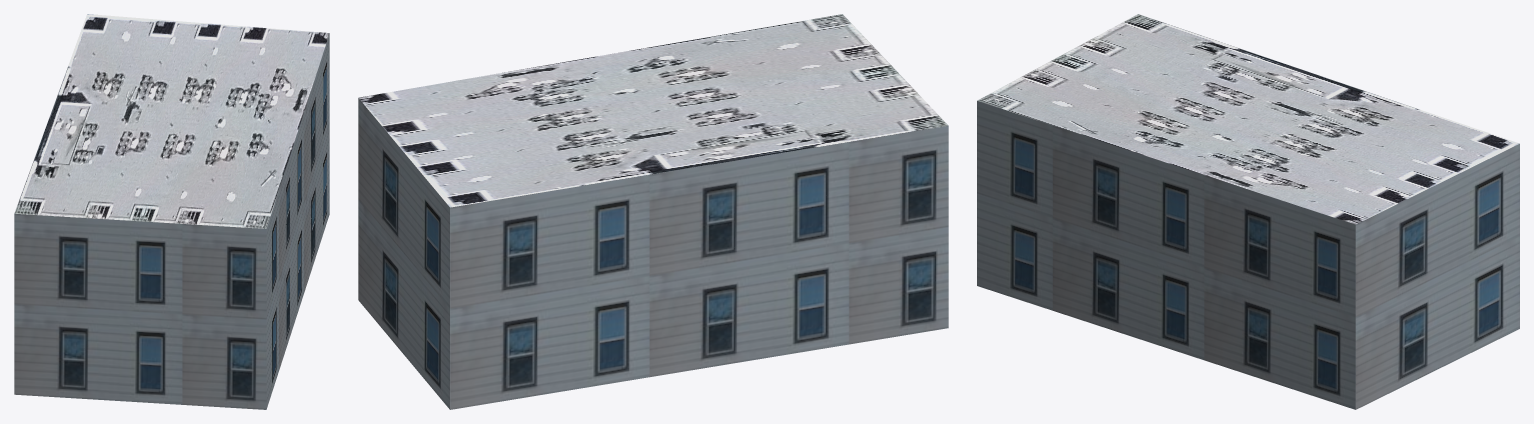
File: ResTex__1330.fbx
3 views of the same model, side by side, from view 1: azimuth 30°, elevation 25°; view 2: azimuth 150°, elevation 25°; view 3: azimuth 270°, elevation 25° (orthographic). The views are drawn at different scales.
Visible parts, largest first — view 1: CityEngineMaterial_18_m, CityEngineMaterial_8_m; view 2: CityEngineMaterial_18_m, CityEngineMaterial_8_m; view 3: CityEngineMaterial_18_m, CityEngineMaterial_8_m.
Part boxes in pixels (left/top/right/bottom): CityEngineMaterial_18_m: left=14, top=34, right=329, bottom=409; CityEngineMaterial_8_m: left=14, top=14, right=329, bottom=228; CityEngineMaterial_18_m: left=358, top=98, right=948, bottom=409; CityEngineMaterial_8_m: left=358, top=14, right=948, bottom=207; CityEngineMaterial_18_m: left=977, top=101, right=1519, bottom=409; CityEngineMaterial_8_m: left=977, top=14, right=1519, bottom=224.
Size of the model in its own units: 14.64 by 6 by 15.93.
Materials: 2 (2 with a texture image).
